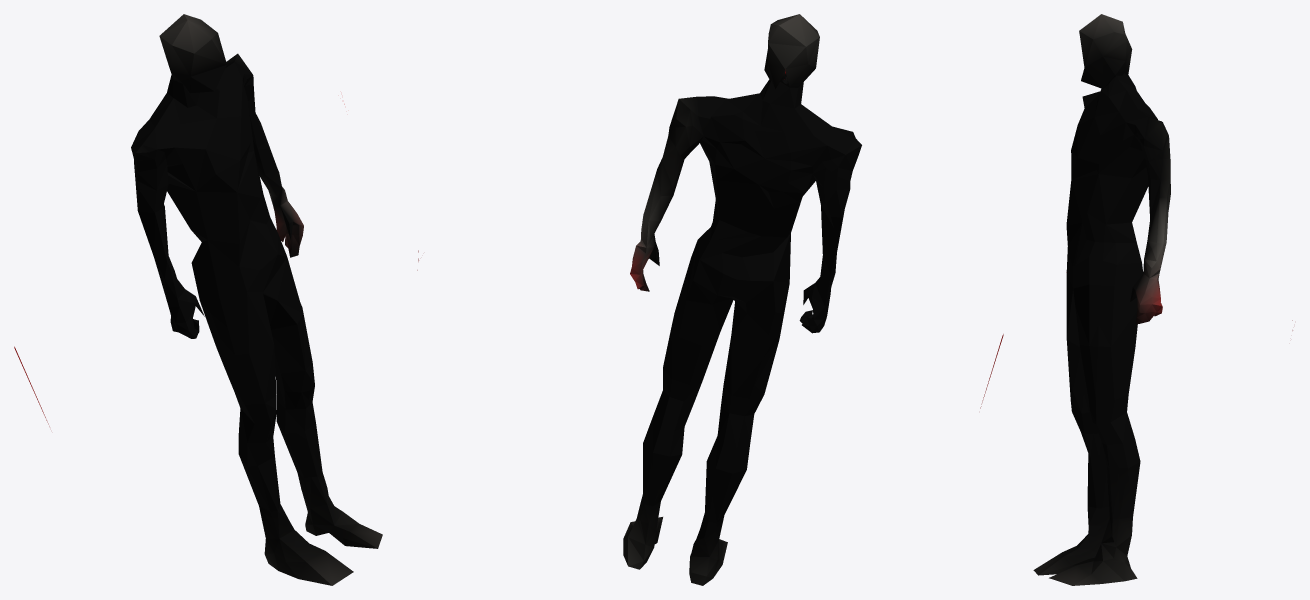
File: superhot_enemy_stlblk.glb
3 renders of one model, left to right at view 1: azimuth 30°, elevation 25°; view 2: azimuth 150°, elevation 25°; view 3: azimuth 270°, elevation 25°, orthographic. The views are drawn at different scales.
Visible parts, largest first — view 1: __0; view 2: __0; view 3: __0.
Part boxes in pixels (x1=…): __0: x1=14, y1=14, x2=382, y2=585; __0: x1=417, y1=14, x2=1003, y2=585; __0: x1=1033, y1=14, x2=1292, y2=585.
Bounding box in the file's own units: 1.49 × 1.79 × 0.826.
